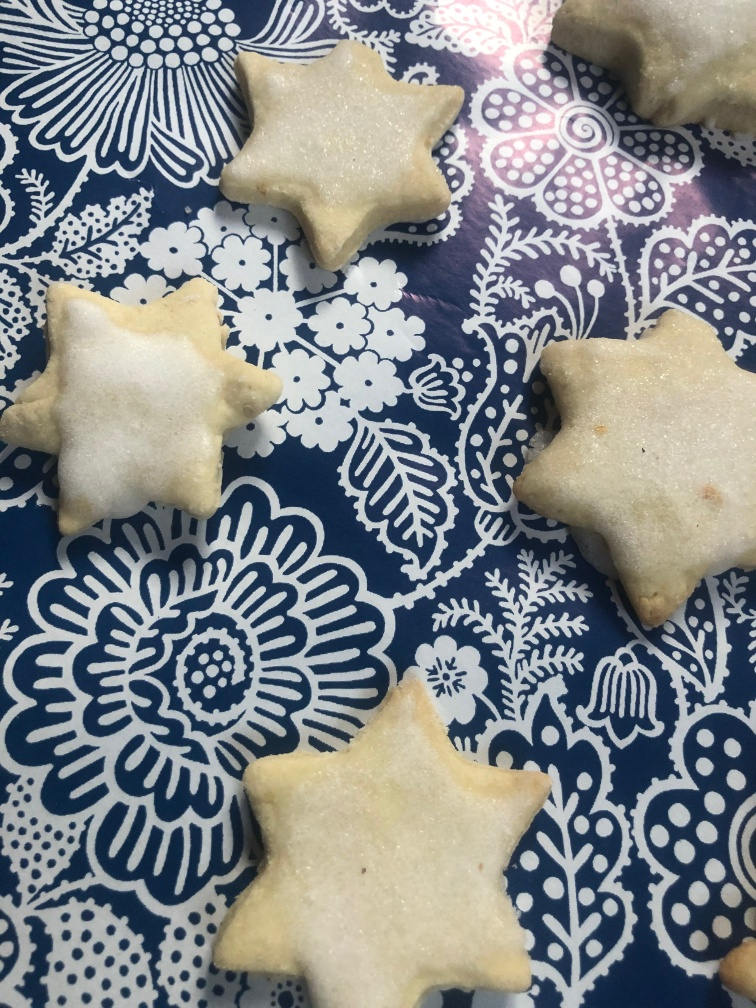star: (205, 661, 550, 1008), (516, 306, 756, 634), (1, 279, 277, 529), (218, 41, 462, 268)
